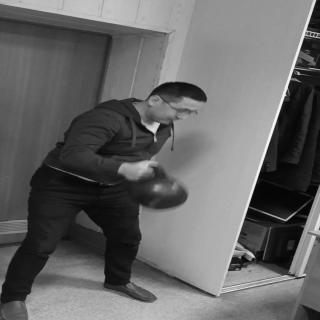girya: (121, 165, 194, 212)
